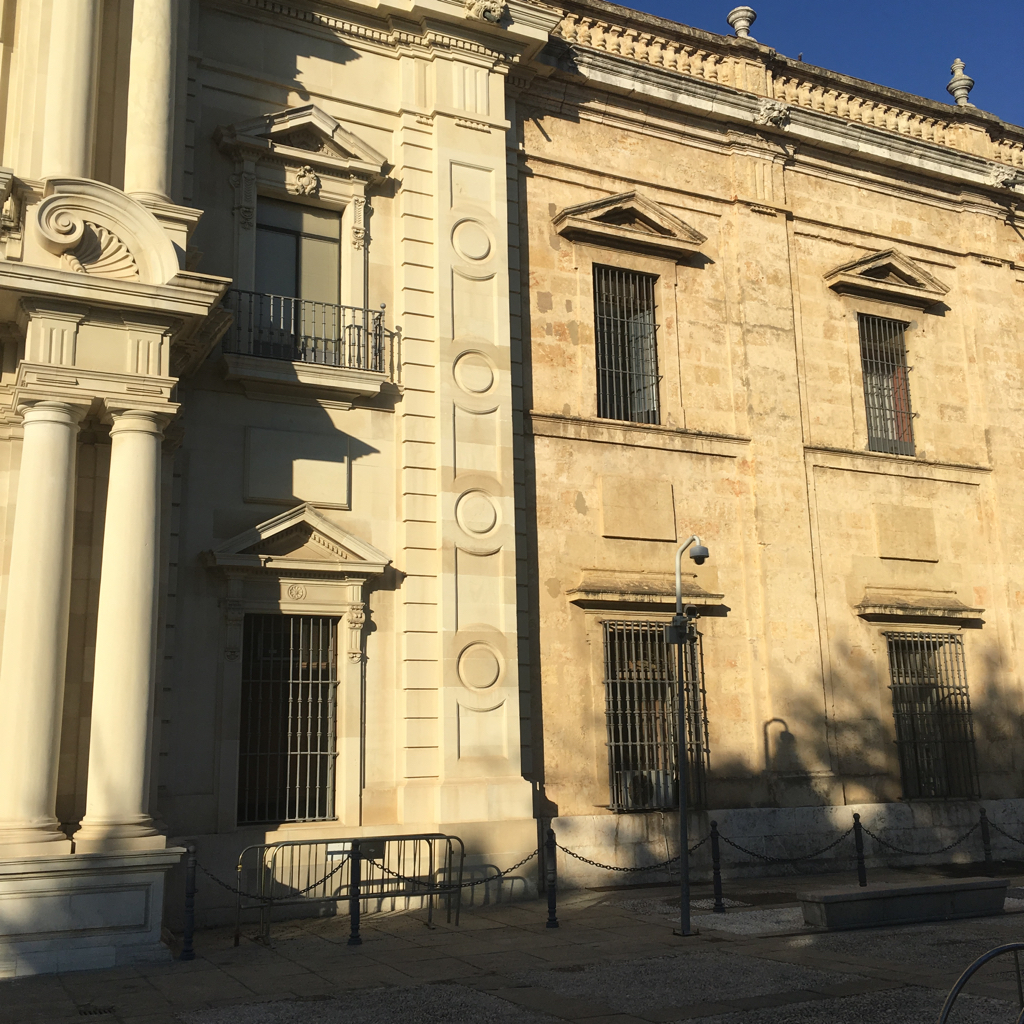fronton: (204, 503, 401, 584), (212, 98, 387, 187), (556, 186, 714, 265), (826, 248, 954, 312)
vano-adintelado: (215, 583, 366, 827), (231, 176, 373, 380), (581, 587, 711, 808), (861, 612, 987, 803), (573, 243, 688, 439), (838, 307, 933, 462)
